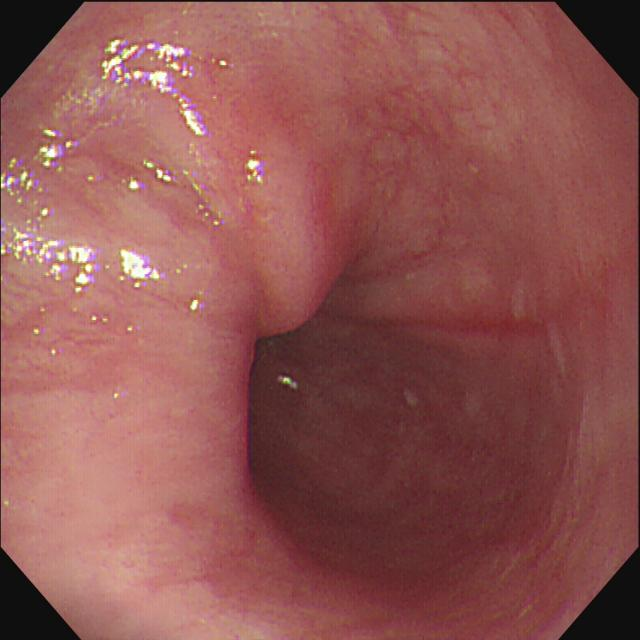A: (172, 503, 280, 625), (304, 165, 341, 282)
J: (511, 280, 544, 322), (548, 326, 570, 380)
U: (102, 38, 211, 138), (2, 224, 99, 296), (2, 159, 46, 205), (121, 249, 161, 291), (39, 130, 80, 169), (144, 159, 174, 185), (246, 161, 264, 184)
